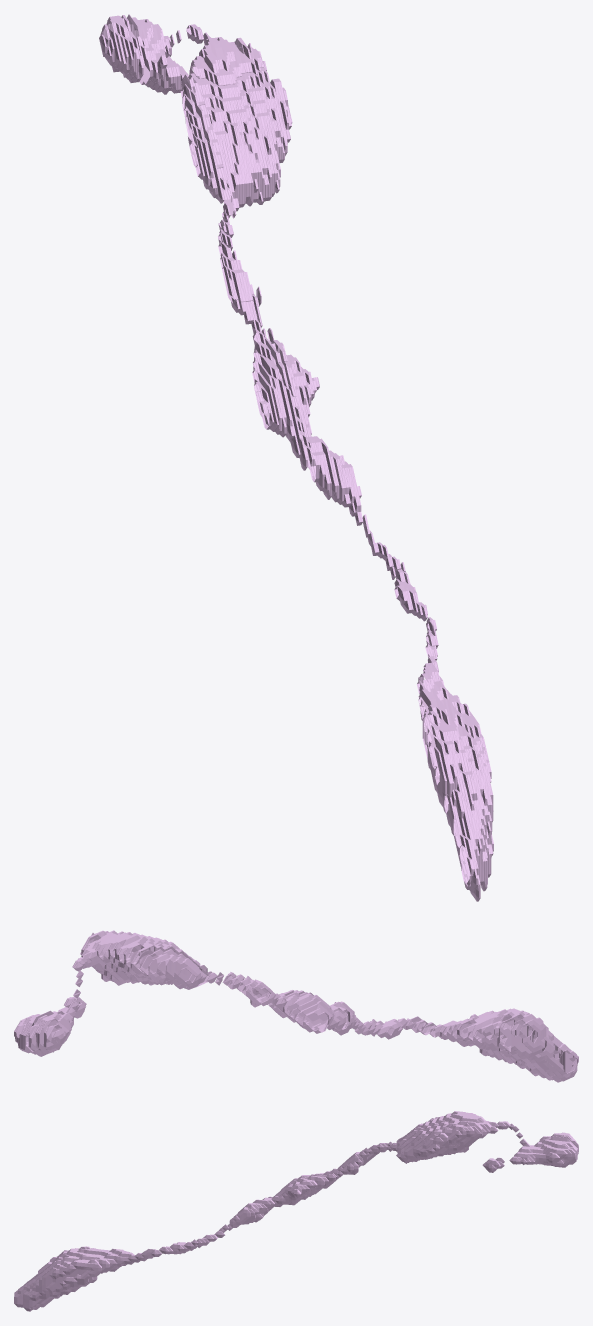
File: SVV_FLPR.gltf
3 views of the same model, one above another, from view 1: azimuth 30°, elevation 25°; view 2: azimuth 150°, elevation 25°; view 3: azimuth 270°, elevation 25° (orthographic). The views are drawn at different scales.
Visible parts, largest first — view 1: FLPR; view 2: FLPR; view 3: FLPR.
Boxes of the visible parts, x1=… form: FLPR: x1=99, y1=14, x2=493, y2=901; FLPR: x1=14, y1=930, x2=578, y2=1082; FLPR: x1=14, y1=1111, x2=578, y2=1311.
Bounding box in the file's own units: 24870 × 47493 × 102227.
